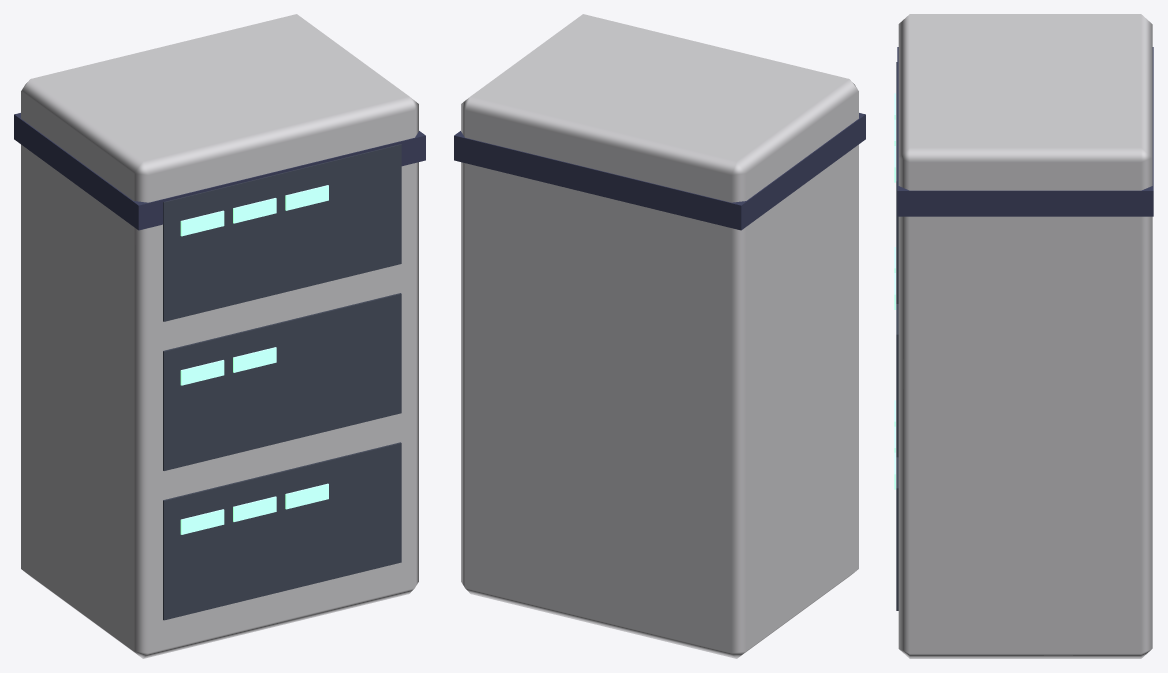
The model's file is station_intake_ausstattung_2_2.glb.
3 renders of one model, left to right at view 1: azimuth 30°, elevation 25°; view 2: azimuth 150°, elevation 25°; view 3: azimuth 270°, elevation 25°, orthographic. The views are drawn at different scales.
Visible parts, largest first — view 1: station_intake_ausstattung_2_2; view 2: station_intake_ausstattung_2_2; view 3: station_intake_ausstattung_2_2.
Part boxes in pixels (x1,y1,x2,y2): station_intake_ausstattung_2_2: (14,14,425,658); station_intake_ausstattung_2_2: (454,14,865,658); station_intake_ausstattung_2_2: (894,14,1153,658).
Bounding box in the file's own units: 0.604 × 1 × 0.4595.
